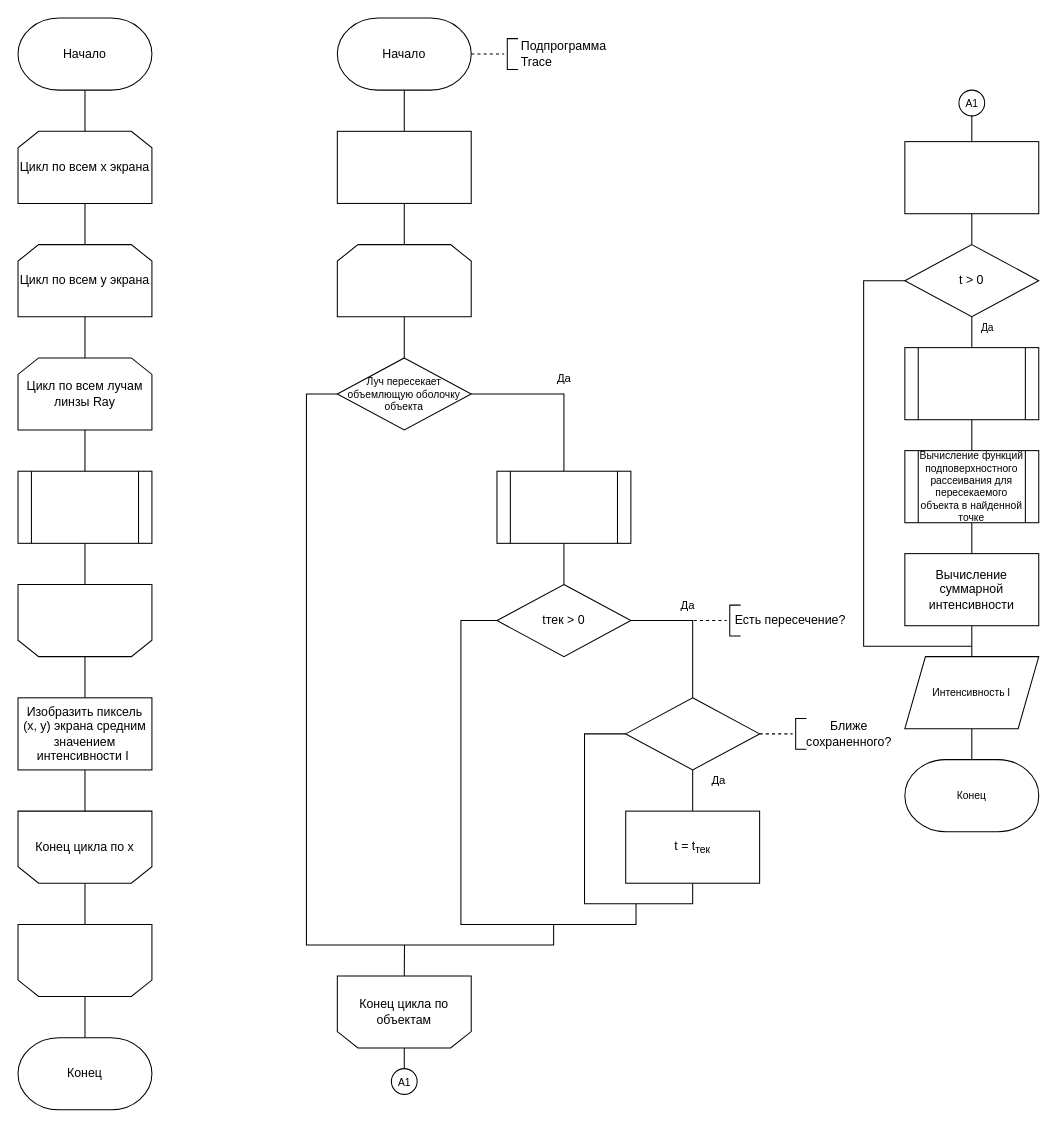
The diagram is 1057 pixels wide and 1128 high, and some of its shapes have lost their labels. The shapes that lost their labels are listed below. From the top down, each one's centre as x and y in pixels, then its label:
the point at 403,166: Инициализация t = -1
the point at 971,177: Инициализация интенсивности I
the point at 403,280: Цикл по всем объектам сцены
the point at 971,383: Вычисление функций рассеивания для пересекаемого объекта в найденной точке
the point at 84,506: I = Trace(Ray)
the point at 563,506: Нахождение точки пересечения луча с объектом t тек
the point at 84,620: Конец цикла по лучам Ray
the point at 692,733: t тек < t или t = -1
the point at 84,960: Конец цикла по y
